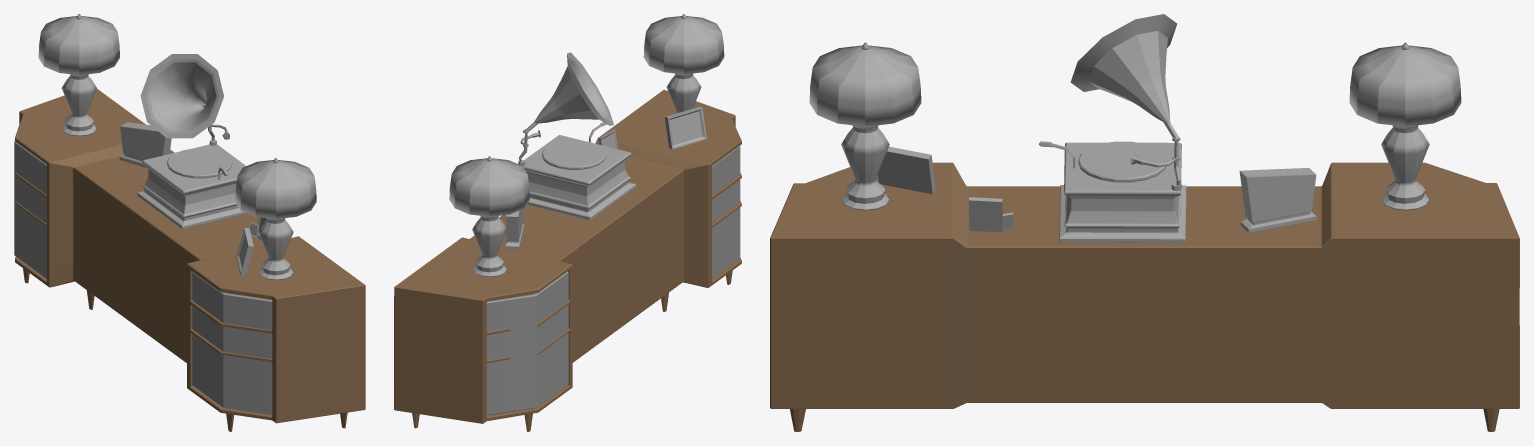
File: PAST-Credenza.fbx
3 views of the same model, side by side, from view 1: azimuth 30°, elevation 25°; view 2: azimuth 150°, elevation 25°; view 3: azimuth 270°, elevation 25° (orthographic). The views are drawn at different scales.
Visible parts, largest first — view 1: pCone7, pCube6, pCube10, Table_Lamp_3, Table_Lamp_2, Clock_with_digital_numbers, decorations:Frame1; view 2: pCone7, pCube6, pCube10, Table_Lamp_2, Table_Lamp_3, decorations:Frame1, Clock_with_digital_numbers; view 3: pCone7, pCube10, Table_Lamp_3, Table_Lamp_2, Clock_with_digital_numbers, decorations:Frame1, decorations:Frame2.
Boxes of the visible parts, x1,y1,x2,y2 form: pCone7: [15, 89, 365, 431]; pCube6: [14, 141, 272, 415]; pCube10: [137, 54, 247, 229]; Table_Lamp_3: [235, 158, 316, 279]; Table_Lamp_2: [38, 14, 119, 136]; Clock_with_digital_numbers: [119, 122, 171, 167]; decorations:Frame1: [236, 227, 253, 275]; pCone7: [394, 89, 741, 431]; pCube6: [486, 146, 740, 415]; pCube10: [518, 52, 635, 220]; Table_Lamp_2: [449, 156, 529, 276]; Table_Lamp_3: [643, 14, 724, 113]; decorations:Frame1: [664, 106, 706, 149]; Clock_with_digital_numbers: [505, 209, 524, 249]; pCone7: [770, 162, 1519, 431]; pCube10: [1039, 14, 1186, 243]; Table_Lamp_3: [809, 42, 921, 210]; Table_Lamp_2: [1349, 42, 1461, 210]; Clock_with_digital_numbers: [1239, 168, 1316, 232]; decorations:Frame1: [877, 146, 935, 194]; decorations:Frame2: [968, 197, 1003, 232].
Size of the model in its own units: 194 by 467 by 800.
